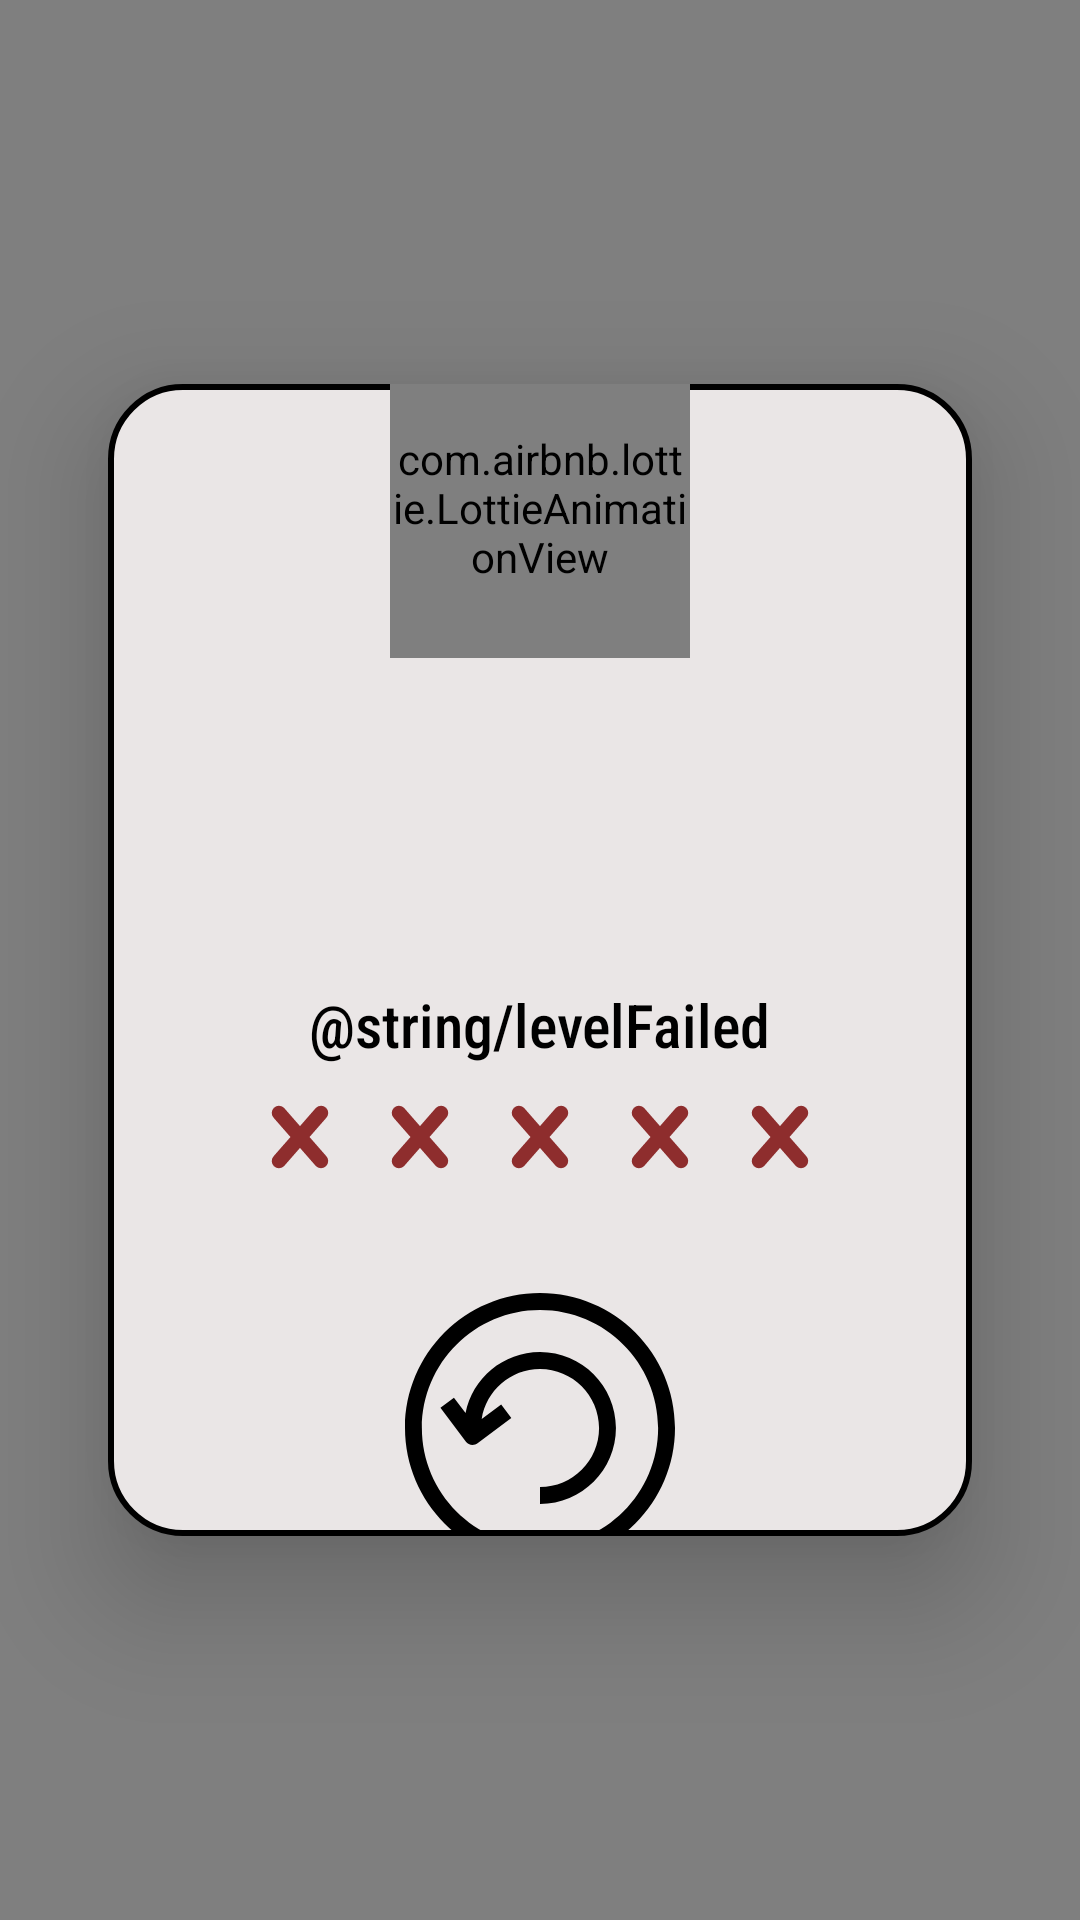

Where icons sit on this 1080x1920 app screen, as (x1, y1, x2, y2):
cross: (271, 1105, 328, 1169), (391, 1105, 448, 1169), (511, 1105, 568, 1169), (631, 1105, 688, 1169), (751, 1105, 808, 1169)
retry: (405, 1293, 675, 1536)
